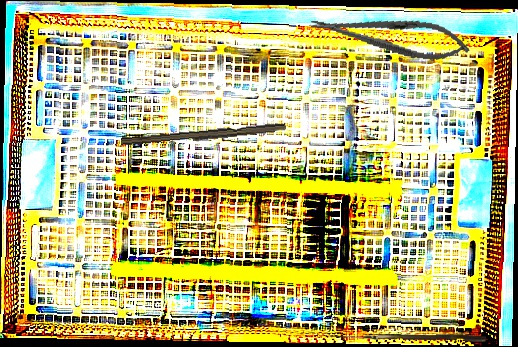Hook Surgical: (327, 332, 487, 345)
Needle Holder: (306, 2, 474, 68)
Scalpel Handle: (120, 120, 287, 151)
